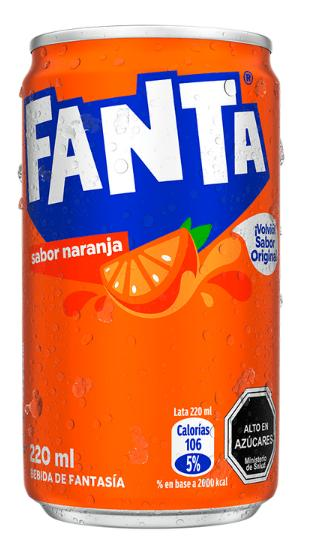brand: (18, 77, 269, 206)
net_weight: (23, 441, 98, 469)
product_name: (26, 228, 128, 271)
